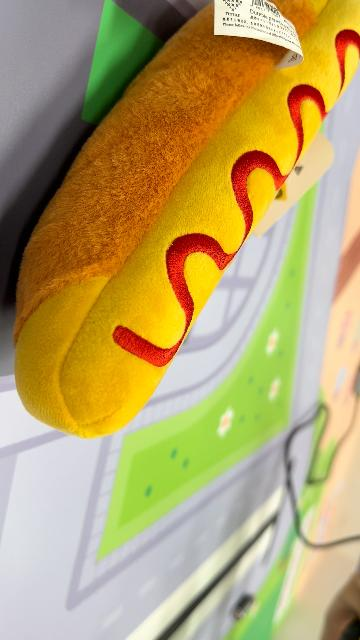hotdog: (13, 2, 359, 440)
